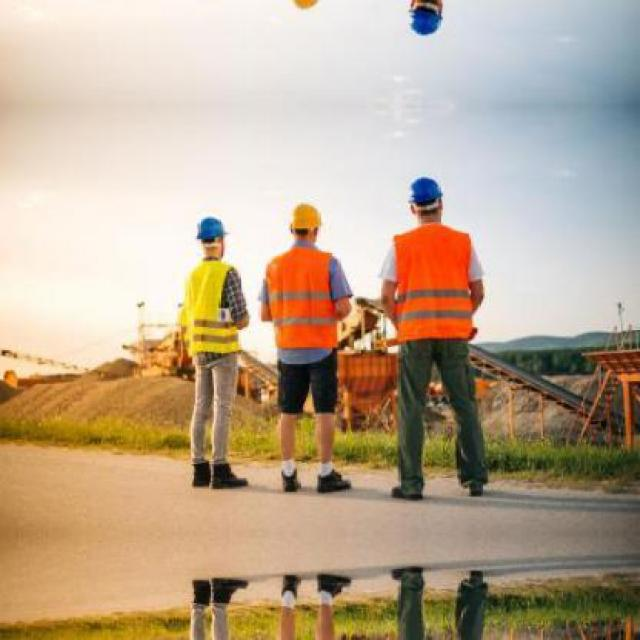Reflective-Jacket: (380, 222, 488, 356), (258, 242, 349, 366), (171, 254, 251, 368)
Safety-Helmet: (397, 168, 454, 218), (277, 194, 332, 244), (187, 210, 236, 248)
